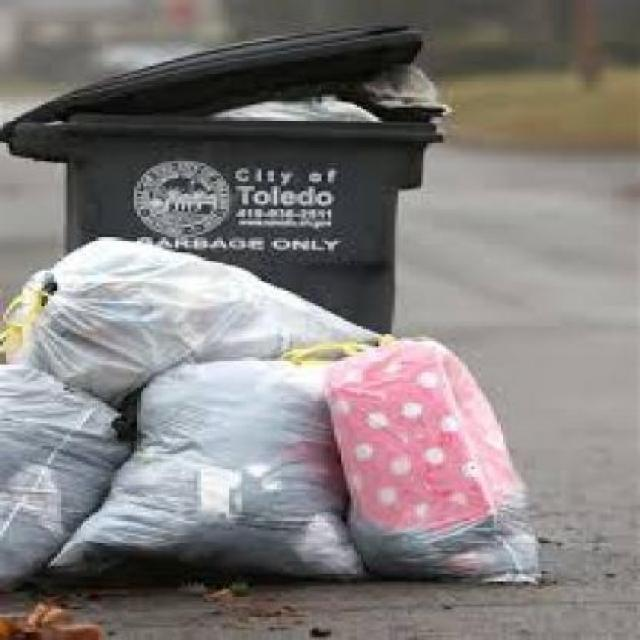garbage: (0, 237, 534, 588)
